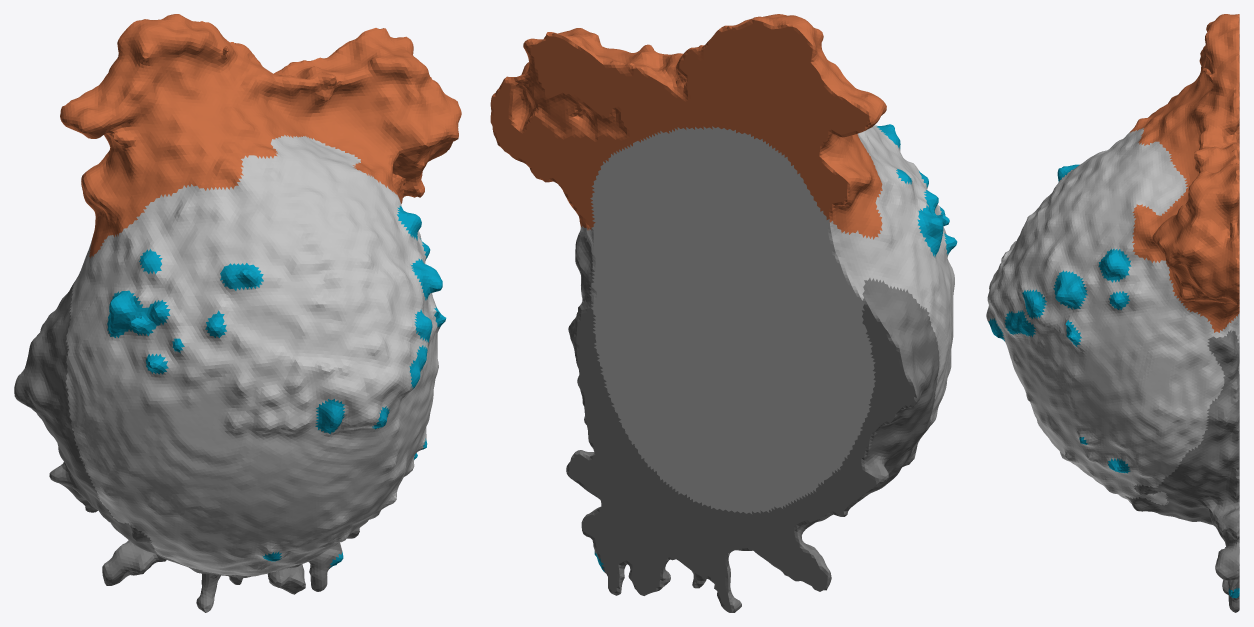
3 renders of one model, left to right at view 1: azimuth 30°, elevation 25°; view 2: azimuth 150°, elevation 25°; view 3: azimuth 270°, elevation 25°, orthographic. The views are drawn at different scales.
Size of the model in its own units: 109 by 150 by 65.58.
